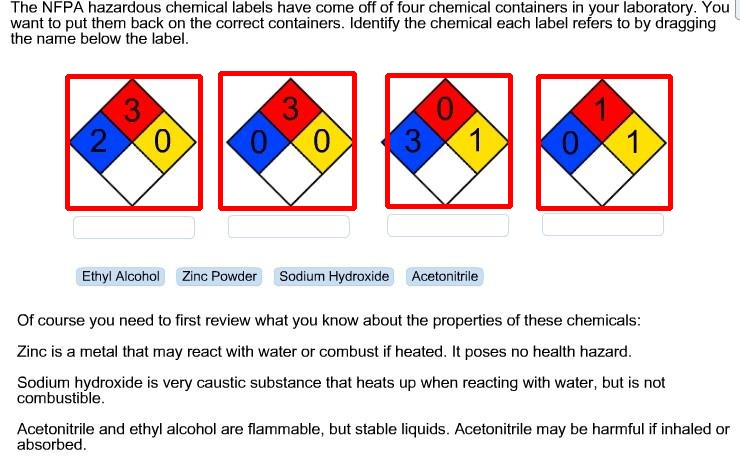nfpa: (220, 73, 354, 208), (67, 76, 200, 208), (538, 76, 670, 208), (387, 75, 510, 206)
